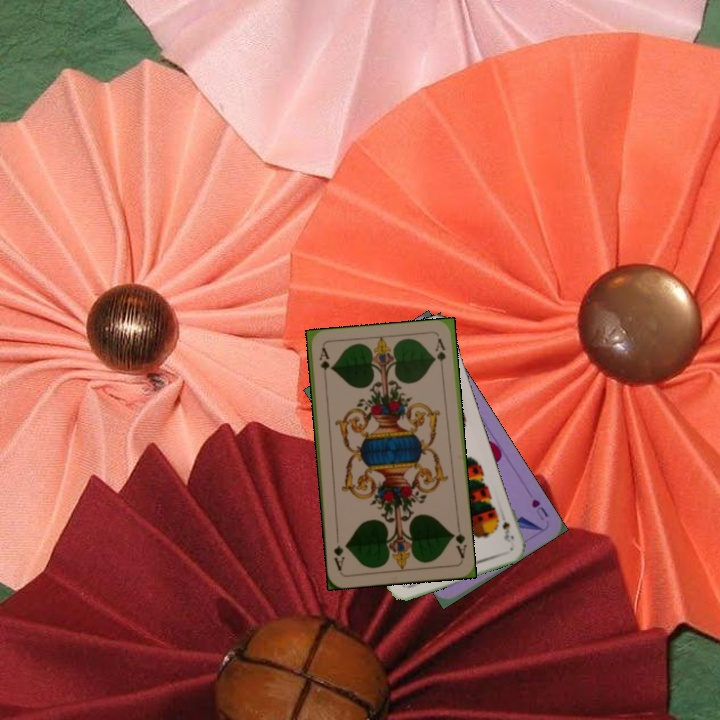GA: (448, 521, 469, 561), (315, 344, 332, 384)
HU: (527, 495, 551, 523)
S9: (498, 517, 516, 545)
